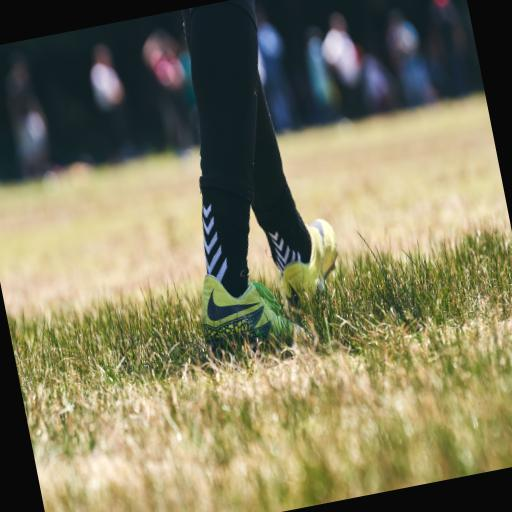shoe: (201, 275, 299, 350), (281, 219, 336, 305)
